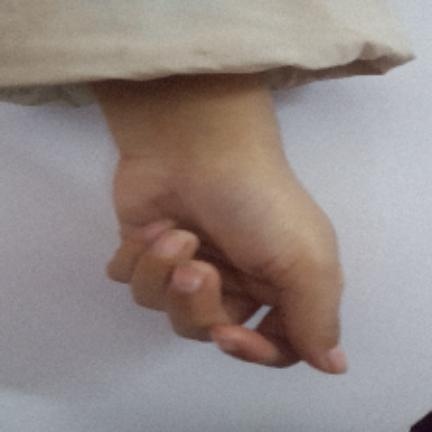Nail: (154, 231, 187, 257), (172, 265, 202, 293), (327, 344, 348, 374), (144, 224, 165, 239), (216, 338, 234, 351)
